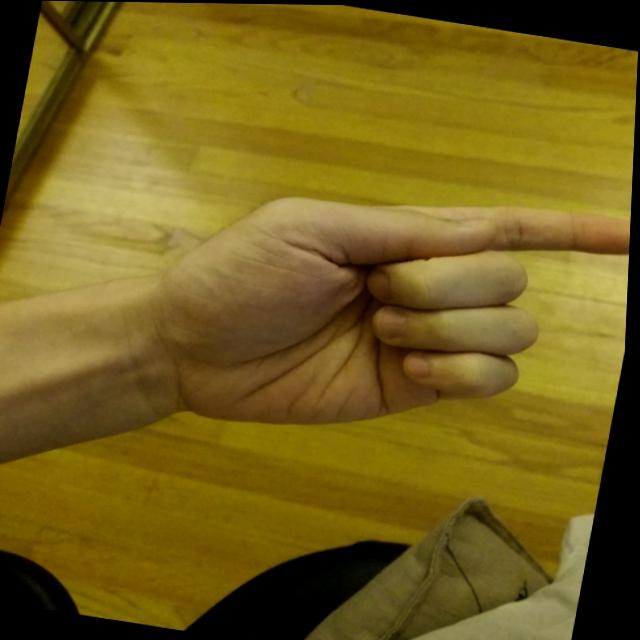G: (129, 139, 634, 487)
